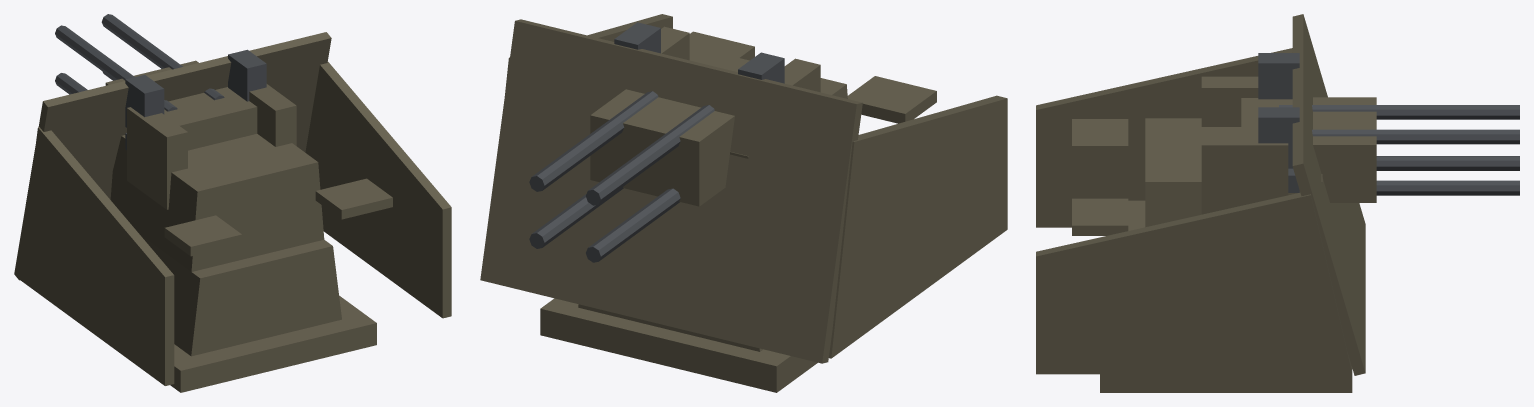
File: flak38.glb
The picture shows the model from 3 angles, left to right: view 1: azimuth 30°, elevation 25°; view 2: azimuth 150°, elevation 25°; view 3: azimuth 270°, elevation 25°; orthographic projection. The views are drawn at different scales.
Visible parts, largest first — view 1: F38_Wing_L, F38_Wing_R, F38_Turntable, F38_Base, F38_Shield, F38_BasePlate, F38_Trunnion_L, F38_Cradle, F38_Trunnion_R, F38_Seat_R, F38_Seat_L, F38_Mag_11 (+4 smaller); view 2: F38_Shield, F38_Wing_L, F38_Cradle, F38_BasePlate, F38_Seat_L, F38_Barrel_-11, F38_Barrel_11, F38_Barrel_-1-1, F38_Barrel_1-1, F38_Turntable, F38_Seat_R, F38_Mag_-11 (+5 smaller); view 3: F38_Wing_R, F38_Wing_L, F38_Shield, F38_Cradle, F38_Turntable, F38_Trunnion_R, F38_BasePlate, F38_Barrel_11, F38_Barrel_-11, F38_Trunnion_L, F38_Barrel_1-1, F38_Seat_L (+5 smaller).
Part boxes in pixels (x1,y1,x2,y2): F38_Wing_L: (19, 127, 174, 385); F38_Wing_R: (305, 61, 451, 318); F38_Turntable: (110, 134, 324, 271); F38_Base: (139, 234, 341, 356); F38_Shield: (14, 32, 331, 280); F38_BasePlate: (170, 295, 376, 392); F38_Trunnion_L: (127, 107, 187, 209); F38_Cradle: (105, 60, 257, 150); F38_Trunnion_R: (249, 84, 296, 146); F38_Seat_R: (315, 178, 392, 219); F38_Seat_L: (164, 215, 241, 256); F38_Mag_11: (228, 49, 266, 101); F38_Shield: (480, 19, 862, 363); F38_Wing_L: (829, 95, 1007, 358); F38_Cradle: (590, 89, 734, 206); F38_BasePlate: (540, 298, 817, 392); F38_Seat_L: (847, 76, 936, 123); F38_Barrel_-11: (586, 105, 714, 205); F38_Barrel_11: (529, 91, 658, 191); F38_Barrel_-1-1: (586, 188, 680, 262); F38_Barrel_1-1: (529, 187, 623, 248); F38_Turntable: (689, 49, 847, 158); F38_Seat_R: (689, 31, 754, 60); F38_Mag_-11: (738, 52, 784, 83); F38_Wing_R: (1036, 193, 1352, 374); F38_Wing_L: (1036, 48, 1292, 227); F38_Shield: (1292, 14, 1365, 375); F38_Cradle: (1241, 97, 1376, 202); F38_Turntable: (1145, 118, 1322, 227); F38_Trunnion_R: (1201, 134, 1288, 214); F38_BasePlate: (1100, 368, 1352, 392); F38_Barrel_11: (1312, 129, 1519, 144); F38_Barrel_-11: (1279, 105, 1519, 119); F38_Trunnion_L: (1201, 76, 1258, 126); F38_Barrel_1-1: (1376, 180, 1519, 195); F38_Seat_L: (1072, 119, 1128, 156).
Size of the model in its own units: 1.9 by 1.5 by 2.57.
